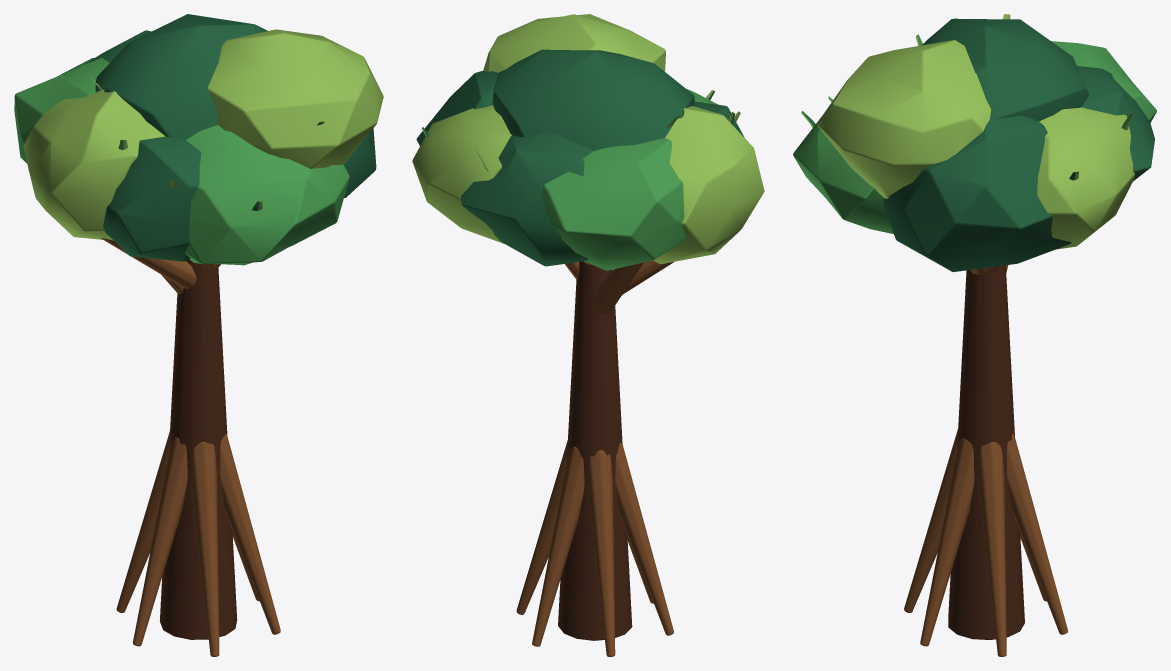
File: tree_oak.glb
3 renders of one model, left to right at view 1: azimuth 30°, elevation 25°; view 2: azimuth 150°, elevation 25°; view 3: azimuth 270°, elevation 25°, orthographic. The views are drawn at different scales.
Visible parts, largest first — view 1: Flared sculpted trunk.002; view 2: Flared sculpted trunk.002; view 3: Flared sculpted trunk.002.
Boxes of the visible parts, box(x1,y1,x2,y2) form: Flared sculpted trunk.002: box(14, 14, 383, 656); Flared sculpted trunk.002: box(412, 14, 764, 656); Flared sculpted trunk.002: box(793, 14, 1156, 656).
Size of the model in its own units: 3.52 by 6.1 by 3.35.
